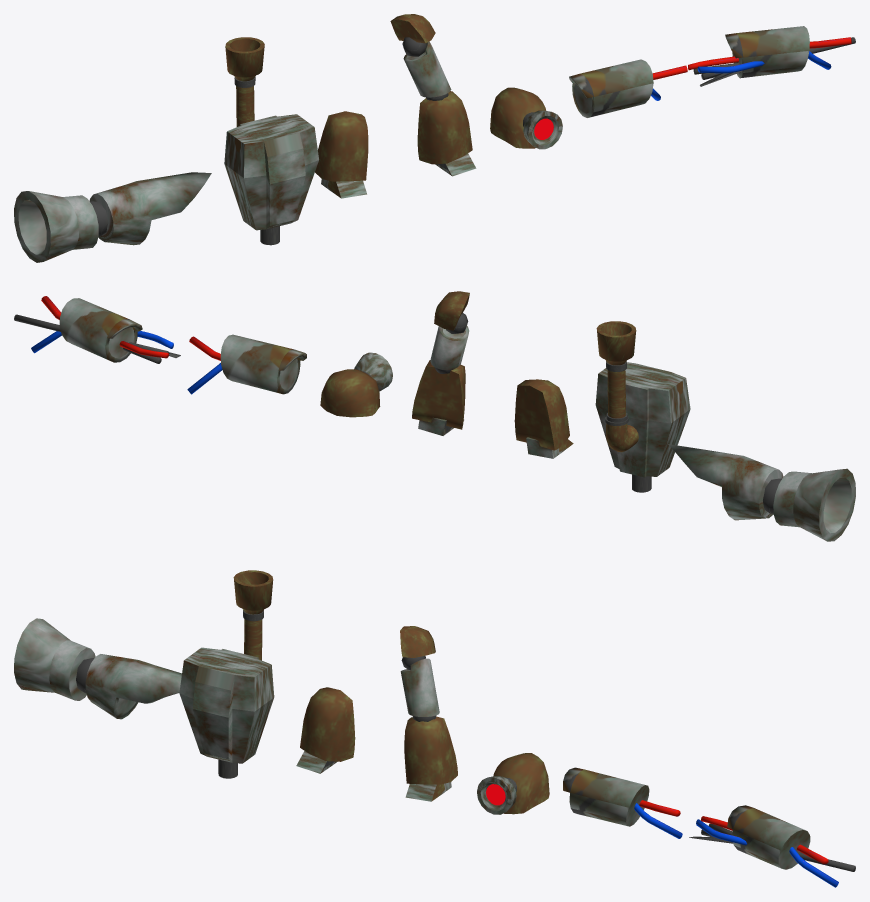
The model's file is GunnerParts.fbx.
3 renders of one model, top to bottom at view 1: azimuth 30°, elevation 25°; view 2: azimuth 150°, elevation 25°; view 3: azimuth 330°, elevation 25°, orthographic.
Parts seen in each view (by area): view 1: GunnerPart_6, GunnerPart_7, GunnerPart_4, GunnerPart_2, GunnerPart_1, GunnerPart_5, GunnerPart_3; view 2: GunnerPart_6, GunnerPart_7, GunnerPart_4, GunnerPart_2, GunnerPart_1, GunnerPart_5, GunnerPart_3; view 3: GunnerPart_6, GunnerPart_7, GunnerPart_4, GunnerPart_2, GunnerPart_1, GunnerPart_5, GunnerPart_3.
Boxes of the visible parts, <box> form: GunnerPart_6: <box>224,37,318,245</box>; GunnerPart_7: <box>14,172,211,262</box>; GunnerPart_4: <box>390,14,476,176</box>; GunnerPart_2: <box>688,26,855,86</box>; GunnerPart_1: <box>569,59,687,117</box>; GunnerPart_5: <box>315,111,368,198</box>; GunnerPart_3: <box>490,87,562,149</box>; GunnerPart_6: <box>595,321,690,492</box>; GunnerPart_7: <box>668,444,855,541</box>; GunnerPart_4: <box>412,291,469,435</box>; GunnerPart_2: <box>14,296,180,363</box>; GunnerPart_1: <box>187,334,306,394</box>; GunnerPart_5: <box>514,379,573,458</box>; GunnerPart_3: <box>320,352,392,417</box>; GunnerPart_6: <box>179,570,274,778</box>; GunnerPart_7: <box>14,618,181,719</box>; GunnerPart_4: <box>400,626,457,801</box>; GunnerPart_2: <box>689,805,855,887</box>; GunnerPart_1: <box>563,767,682,838</box>; GunnerPart_5: <box>296,687,355,773</box>; GunnerPart_3: <box>477,753,549,814</box>.
Bounding box in the file's own units: 5.75 × 1.19 × 0.6928.
